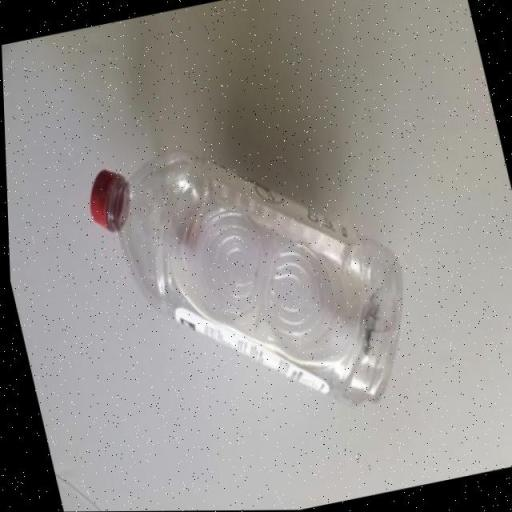plastic: (74, 108, 432, 456)
